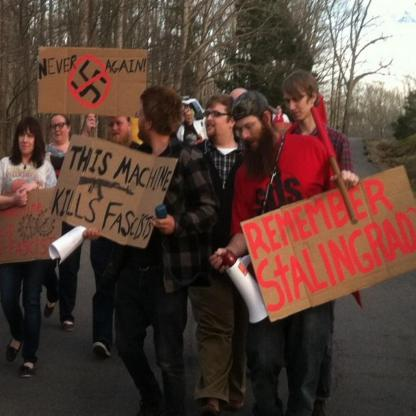face: (237, 115, 266, 152), (285, 88, 312, 122), (205, 103, 230, 137), (108, 115, 129, 143), (138, 103, 153, 141), (19, 128, 35, 154), (52, 116, 68, 142), (185, 112, 193, 123), (277, 107, 282, 113)
